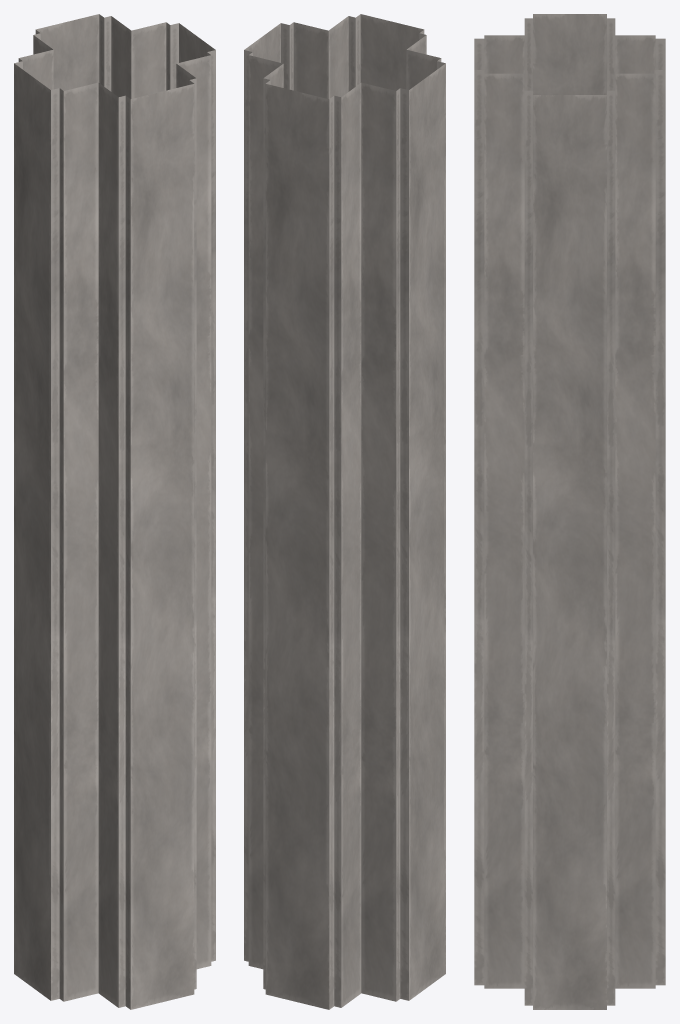
Rendered from Post_B_6m.fbx.
3 views of the same model, side by side, from view 1: azimuth 30°, elevation 25°; view 2: azimuth 150°, elevation 25°; view 3: azimuth 270°, elevation 25° (orthographic).
Visible parts, largest first — view 1: Post_B_6m; view 2: Post_B_6m; view 3: Post_B_6m.
Boxes of the visible parts, x1=… form: Post_B_6m: x1=14, y1=14, x2=215, y2=1009; Post_B_6m: x1=244, y1=14, x2=445, y2=1009; Post_B_6m: x1=474, y1=14, x2=665, y2=1009.
Bounding box in the file's own units: 1.14 × 1.14 × 6.
